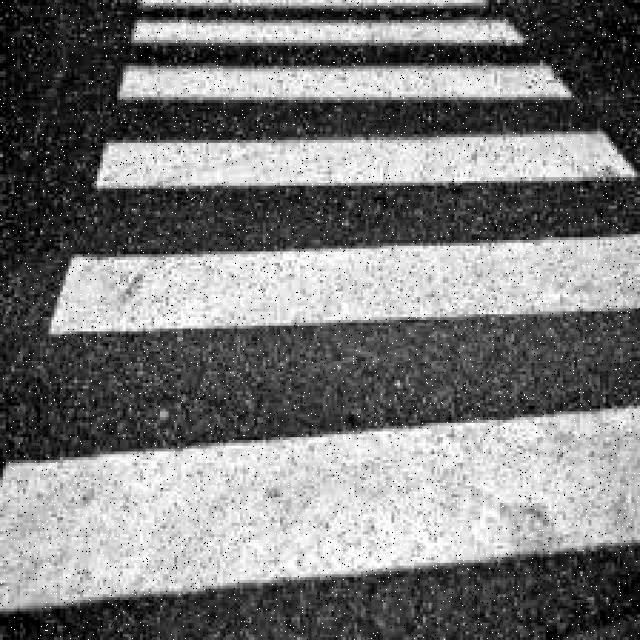crosswalk: (44, 1, 635, 325)
